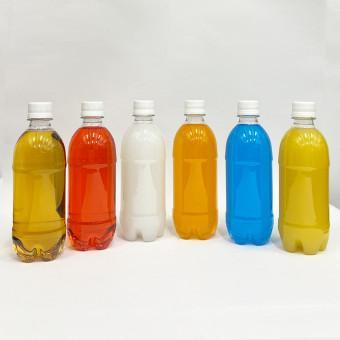bottle: (9, 102, 69, 262), (277, 102, 333, 254), (66, 96, 118, 249), (223, 100, 278, 244), (116, 102, 169, 240), (174, 102, 220, 238)
